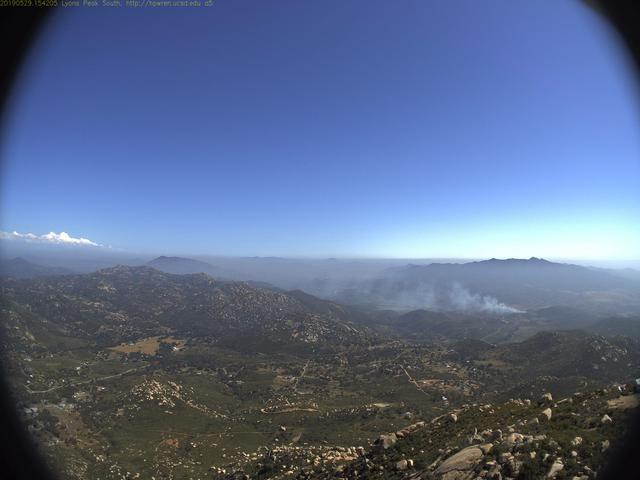smoke: (331, 268, 533, 319)
